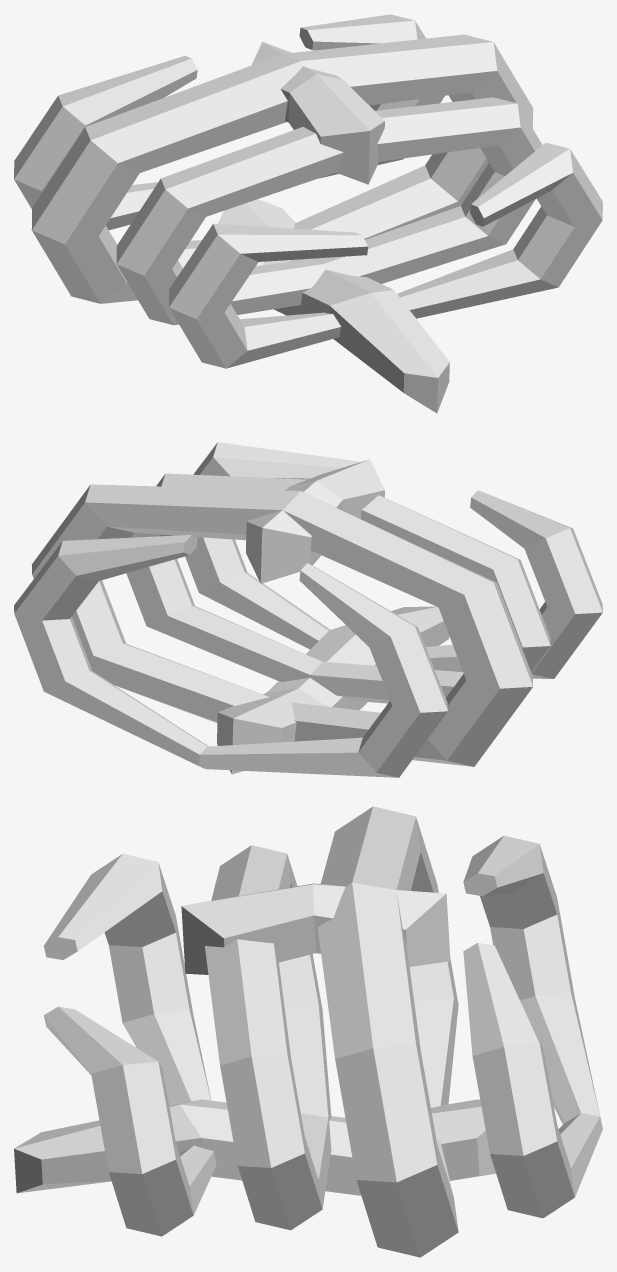
Rendered from SkeletonTorso.fbx.
3 views of the same model, one above another, from view 1: azimuth 30°, elevation 25°; view 2: azimuth 150°, elevation 25°; view 3: azimuth 270°, elevation 25° (orthographic). The views are drawn at different scales.
Parts seen in each view (by area): view 1: SkeletonTorso; view 2: SkeletonTorso; view 3: SkeletonTorso.
Boxes of the visible parts, left/top/right/bottom form: SkeletonTorso: left=14, top=14, right=602, bottom=413; SkeletonTorso: left=14, top=442, right=602, bottom=777; SkeletonTorso: left=14, top=806, right=602, bottom=1257.
Bounding box in the file's own units: 47.22 × 22.73 × 39.05.
Materials: 1 (1 with a texture image).
